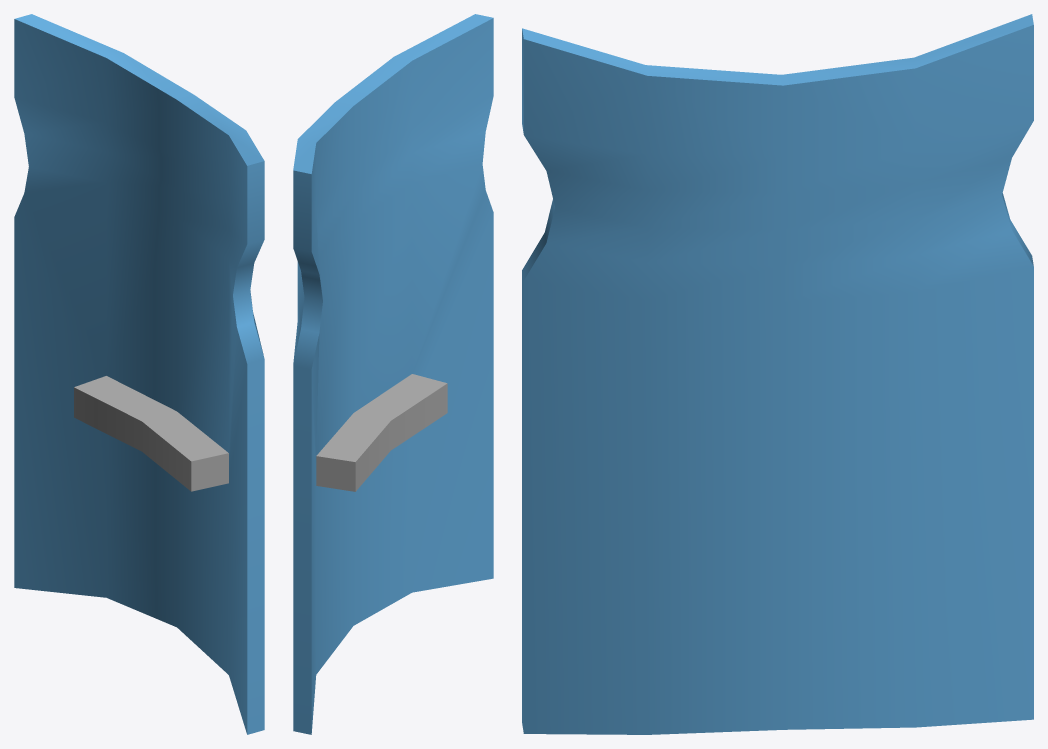
File: TowerShield.fbx
3 renders of one model, left to right at view 1: azimuth 30°, elevation 25°; view 2: azimuth 150°, elevation 25°; view 3: azimuth 270°, elevation 25°, orthographic. The views are drawn at different scales.
Visible parts, largest first — view 1: TowerShield; view 2: TowerShield; view 3: TowerShield.
Part boxes in pixels (x1,y1,x2,y2): TowerShield: (14, 14, 264, 734); TowerShield: (293, 14, 493, 734); TowerShield: (522, 14, 1033, 734).
Size of the model in its own units: 15.49 by 108 by 71.94.
